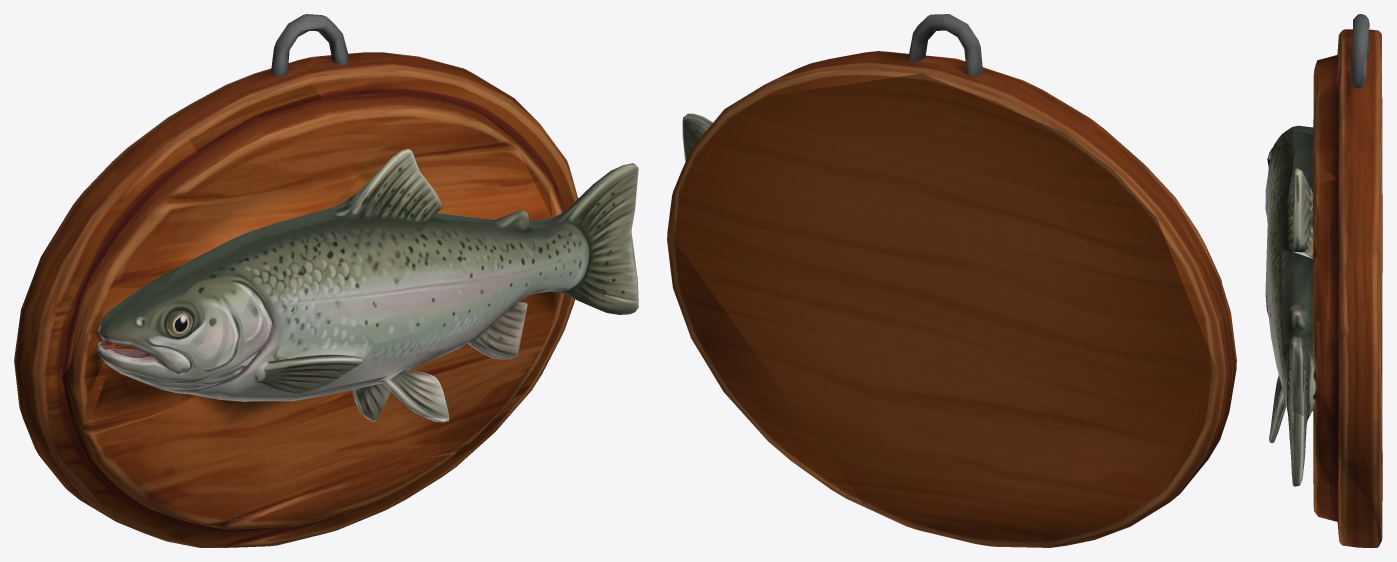
The model's file is Prop_FishTrophy.fbx.
3 renders of one model, left to right at view 1: azimuth 30°, elevation 25°; view 2: azimuth 150°, elevation 25°; view 3: azimuth 270°, elevation 25°, orthographic. The views are drawn at different scales.
Parts seen in each view (by area): view 1: Mesh_0; view 2: Mesh_0; view 3: Mesh_0.
Boxes of the visible parts, x1,y1,x2,y2 form: Mesh_0: (14, 14, 638, 547); Mesh_0: (667, 14, 1236, 547); Mesh_0: (1265, 14, 1382, 547).
Bounding box in the file's own units: 190 × 160 × 34.19.
1 material, 1 textured.
